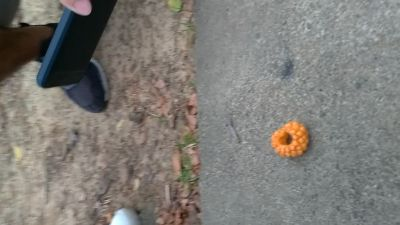eggs: (268, 120, 311, 160)
